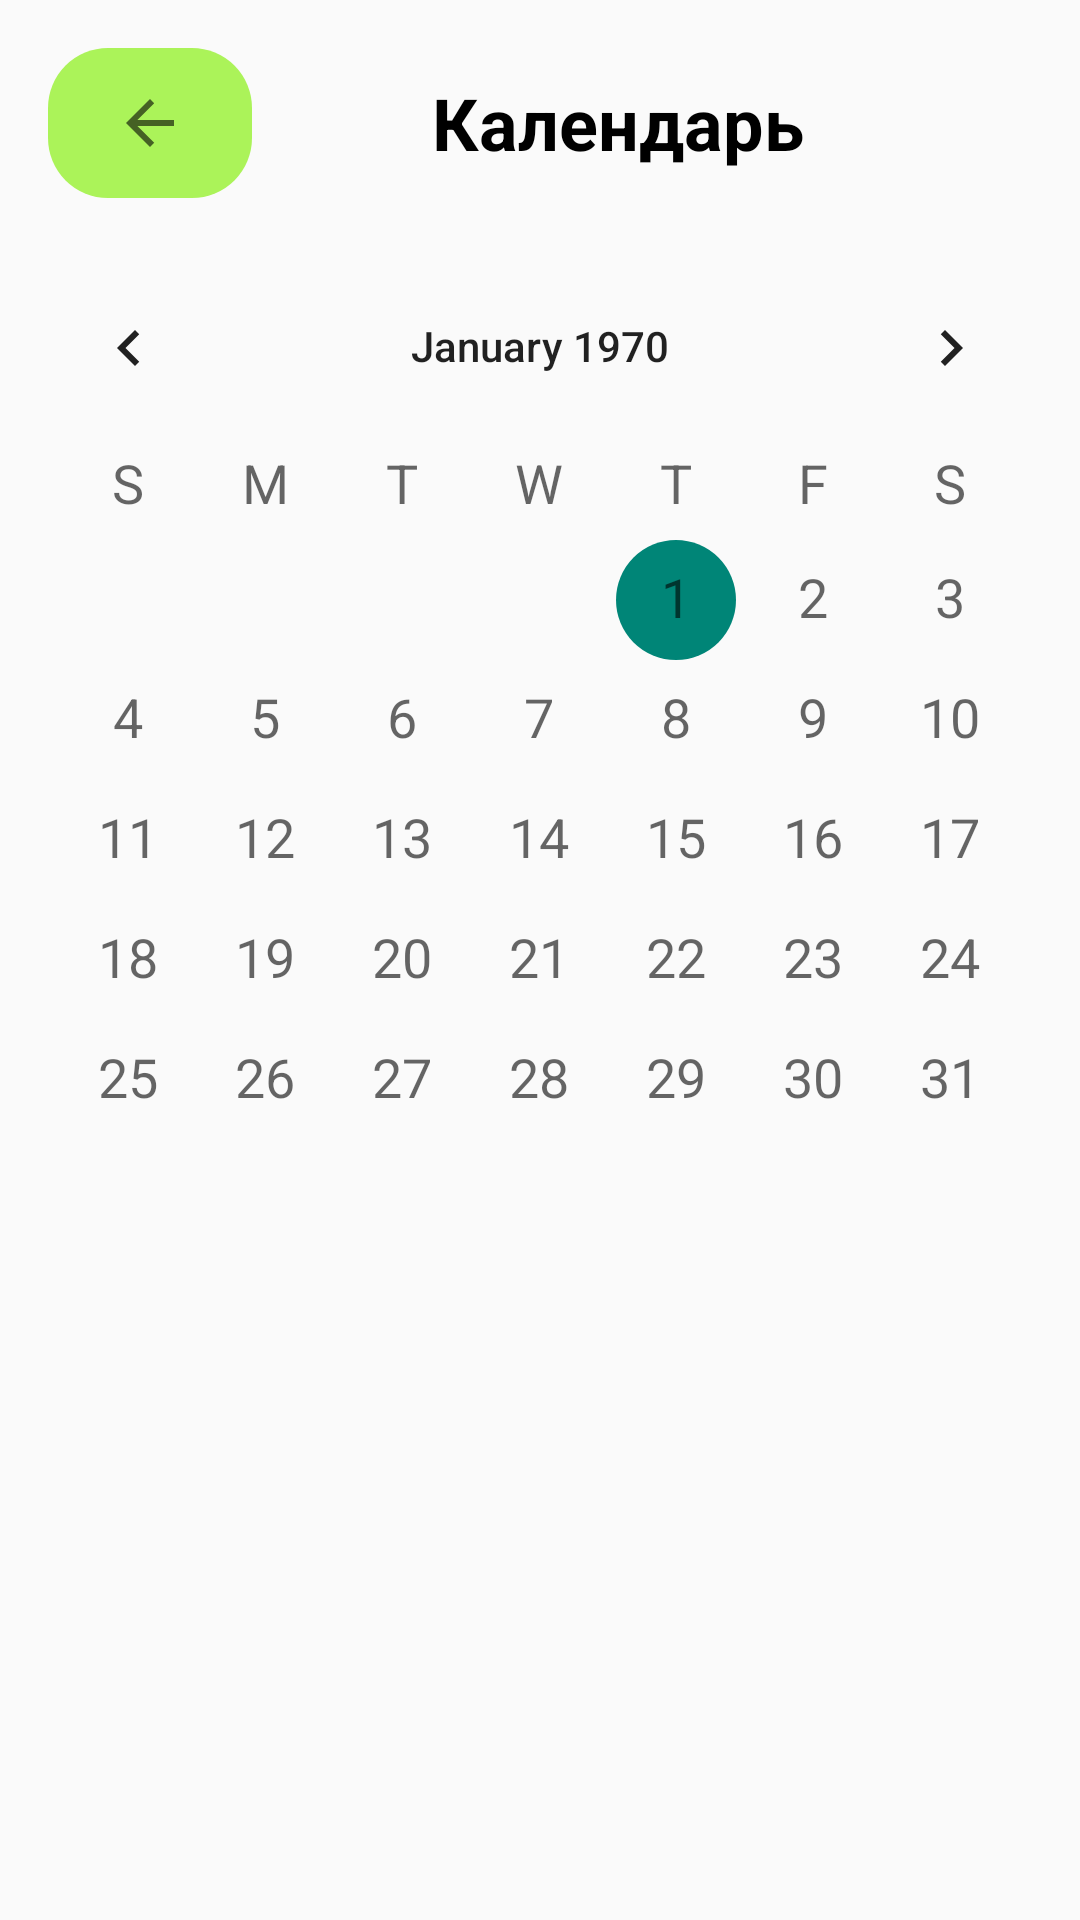

Icons on this 1080px×1920px Android screen, each with the point to tap as (x=x, y=y):
Назад: (x=150, y=123)
